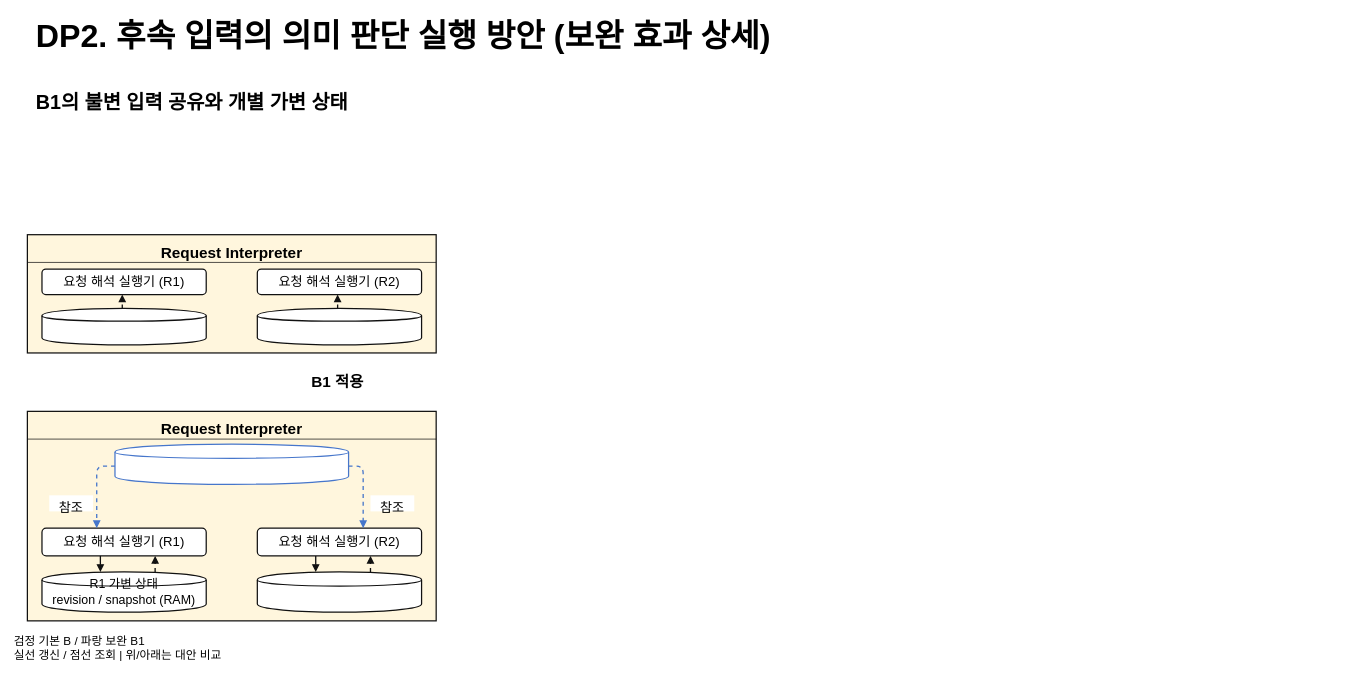
This 1361x676 diagram has some shape labels left out. The centre of each missing label's shape, as x and y in pixels:
B1 공유 불변 입력 / 원본 (RAM): [231,464]
R2 가변 상태 revision / snapshot (RAM): [339,591]
불변 입력 / 원본 사본 1 (RAM): [124,326]
불변 입력 / 원본 사본 2 (RAM): [339,326]
